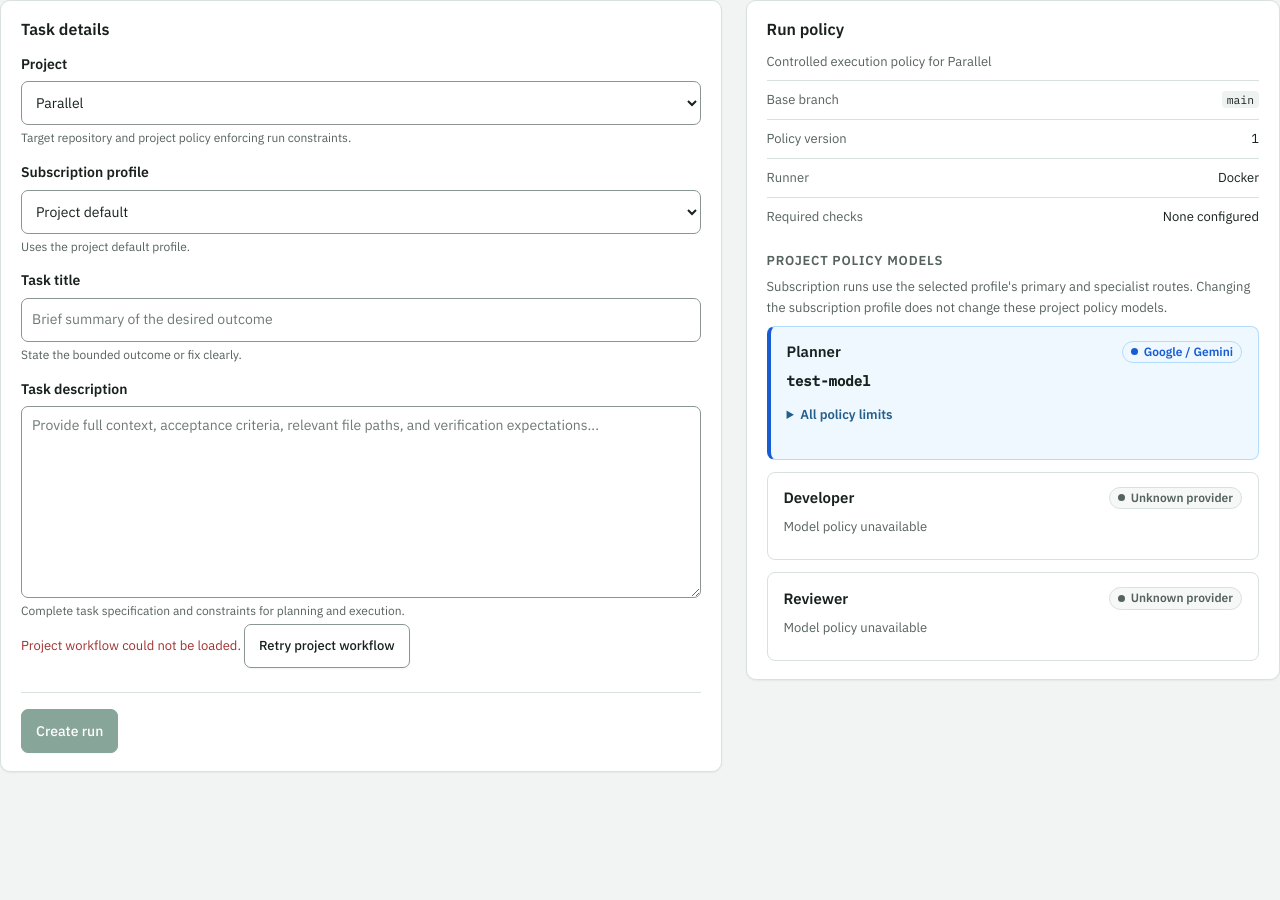
Test: failed project workflow lookup offers recovery without inventing ordinary authority
The image size is (1280, 900).
In the field labelled "Task title": (361, 320) [21, 298, 700, 342], type "Build feature"
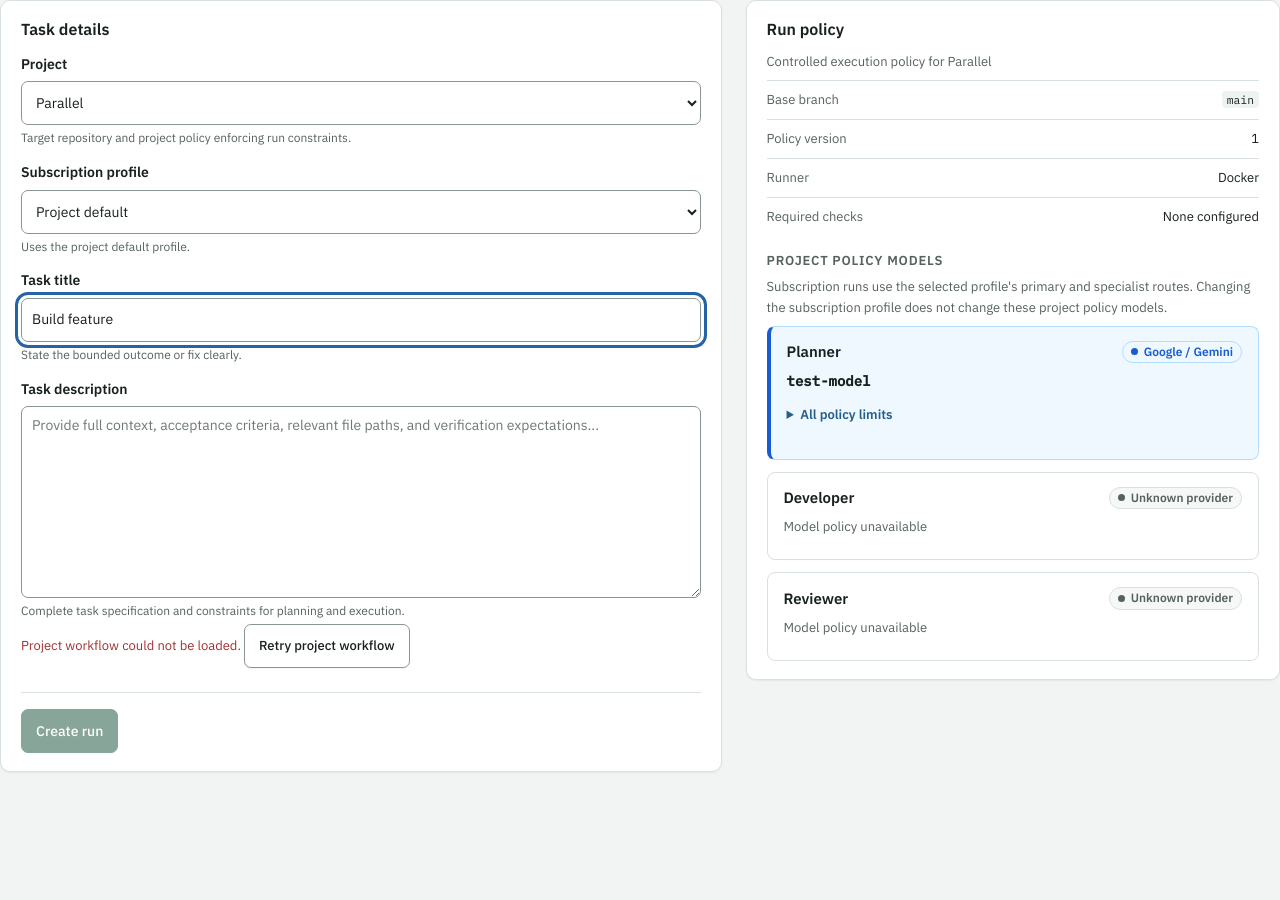
In the text box labelled "Task description": (361, 502) [21, 406, 700, 598], type "A concrete change"
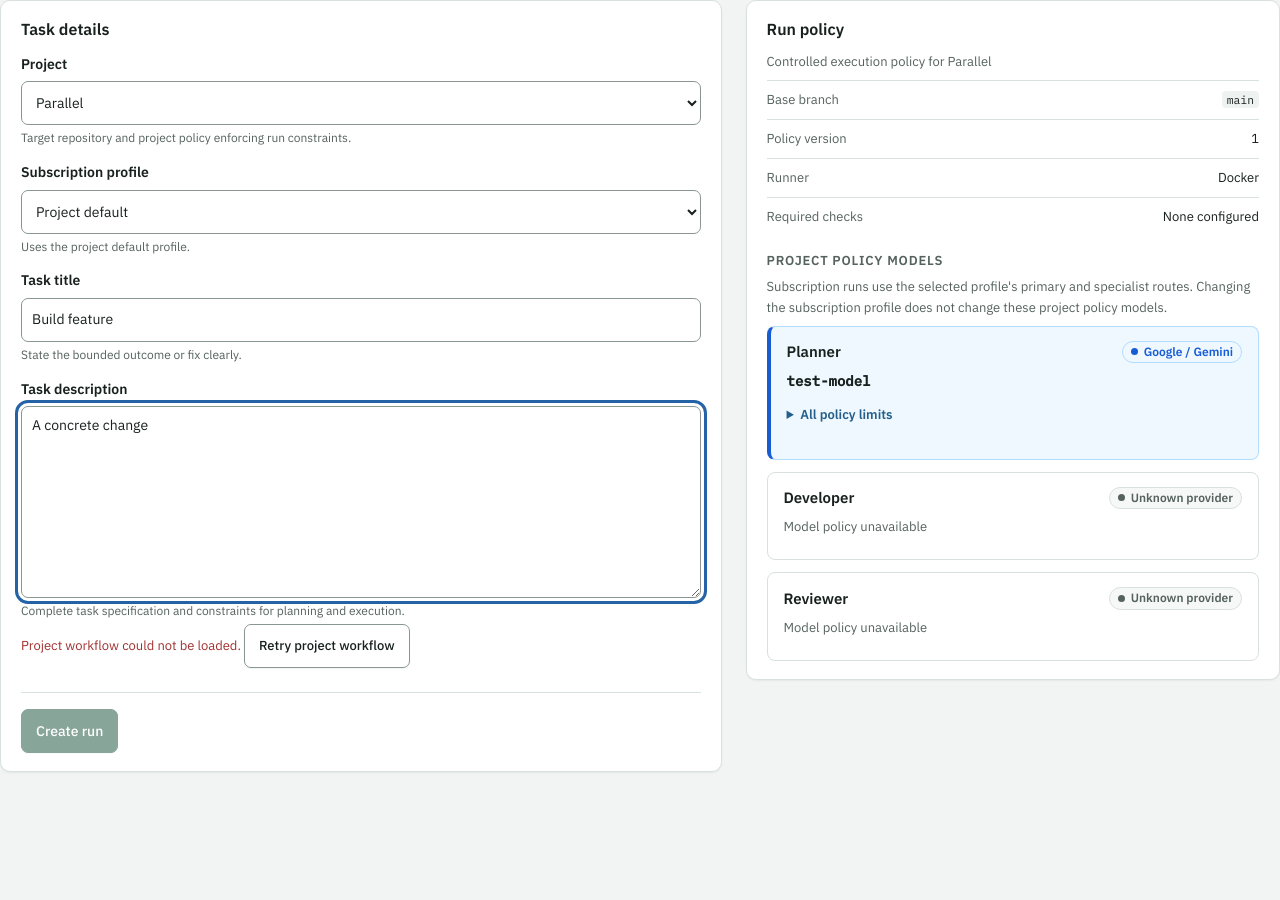
Expected: the button "Create run" is disabled, [21, 709, 118, 753]
Expected: the message shows "Project workflow", [21, 637, 241, 654]
Click the button "Retry project workflow": click(327, 646) [244, 624, 410, 668]
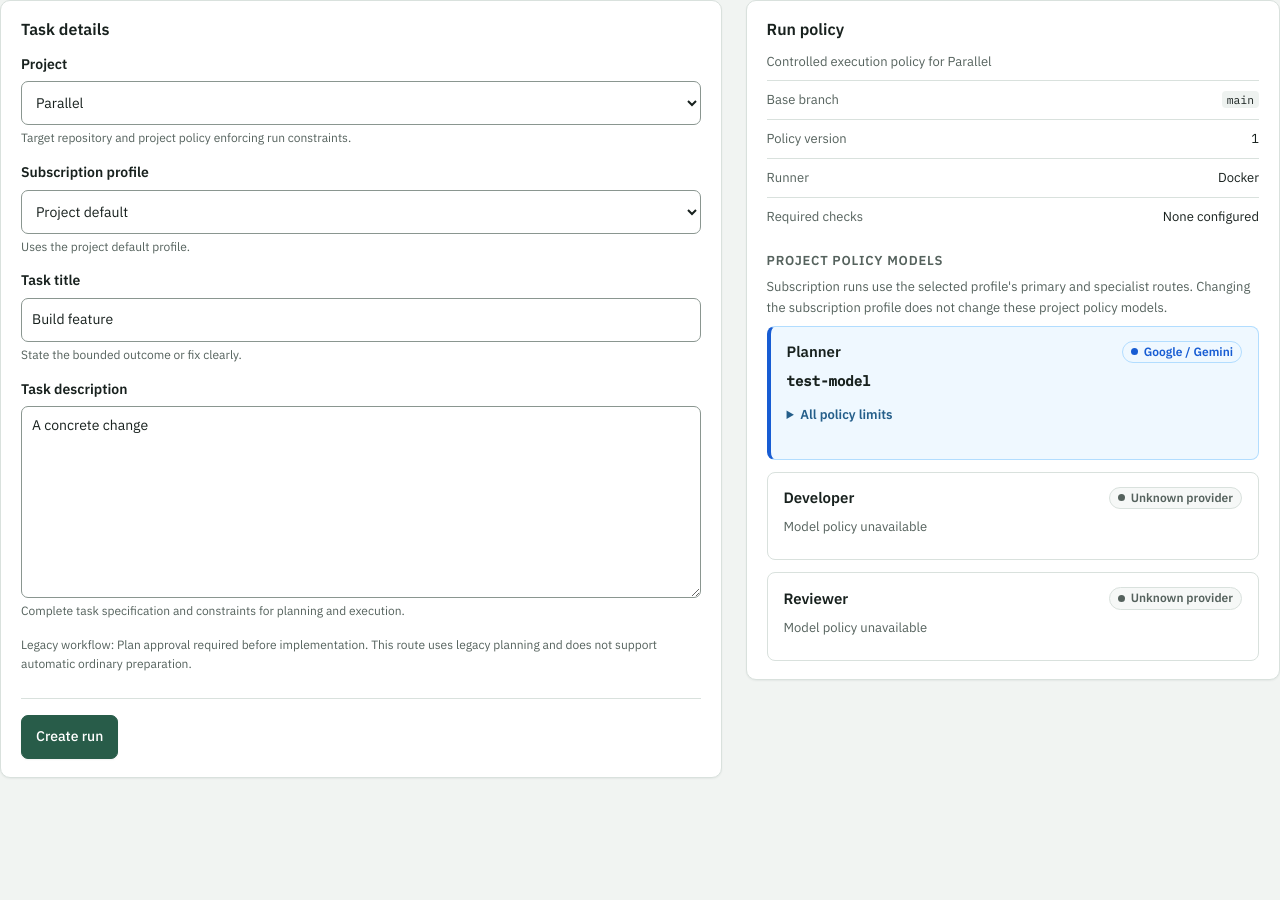
Result: the button "Create run" is enabled at [21, 715, 118, 759]
Result: the text "Legacy workflow: Plan approval required" is shown at [21, 637, 657, 671]
